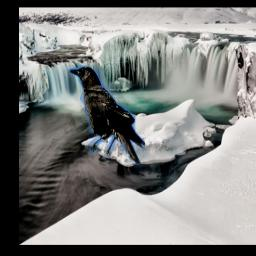Crow: (65, 64, 146, 165)
